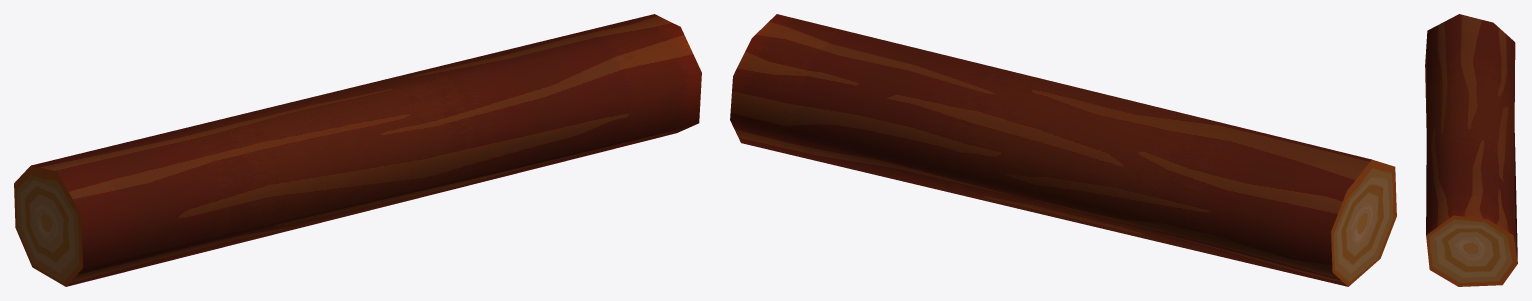
File: Brevno.fbx
The picture shows the model from 3 angles, left to right: view 1: azimuth 30°, elevation 25°; view 2: azimuth 150°, elevation 25°; view 3: azimuth 270°, elevation 25°; orthographic projection. The views are drawn at different scales.
Parts seen in each view (by area): view 1: Brevno; view 2: Brevno; view 3: Brevno.
Part boxes in pixels (<box>): Brevno: <box>14,14,701,286</box>; Brevno: <box>730,14,1396,286</box>; Brevno: <box>1425,14,1517,286</box>.
Size of the model in its own units: 462 by 81.02 by 90.92.
1 material, 1 textured.
